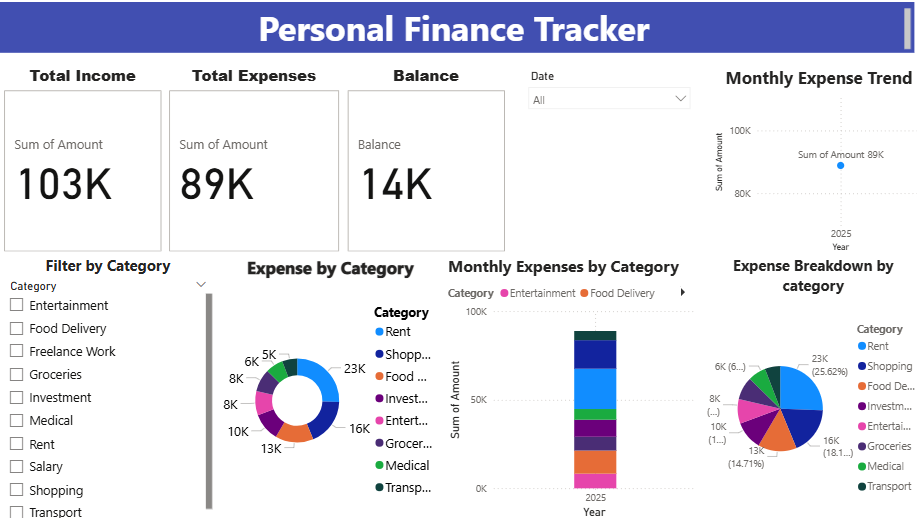

The dashboard page shown, as its layout file describes it:
{"tool":"powerbi","page":{"name":"Page 1","canvas":[1280,720],"ordinal":0},"visuals":[{"type":"cardVisual","title":"Total Income","fields":{"Data":["Sum(Sheet1.Amount)"]},"box":[0,144,208,240],"z":0},{"type":"cardVisual","title":"Total Expenses","fields":{"Data":["Sum(Sheet1.Amount)"]},"box":[208,144,224,240],"z":1000},{"type":"cardVisual","title":"Balance","fields":{"Data":["Sheet1.Balance"]},"box":[432,144,208,240],"z":2000},{"type":"donutChart","title":"Expense by Category","fields":{"Category":["Sheet1.Category"],"Y":["Sheet1.ExpenseOnly"]},"box":[272,384,288,336],"z":3000},{"type":"lineChart","title":"Monthly Expense Trend","fields":{"Category":["Sheet1.Date.Variation.Date Hierarchy.Year","Sheet1.Date.Variation.Date Hierarchy.Quarter","Sheet1.Date.Variation.Date Hierarchy.Month","Sheet1.Date.Variation.Date Hierarchy.Day"],"Y":["Sum(Sheet1.Amount)"]},"box":[896,144,272,240],"z":4000},{"type":"columnChart","title":"Monthly Expenses by Category","fields":{"Category":["Sheet1.Date.Variation.Date Hierarchy.Year","Sheet1.Date.Variation.Date Hierarchy.Quarter","Sheet1.Date.Variation.Date Hierarchy.Month","Sheet1.Date.Variation.Date Hierarchy.Day"],"Y":["Sum(Sheet1.Amount)"],"Series":["Sheet1.Category"]},"box":[560,384,320,336],"z":5000},{"type":"slicer","title":"Filter by Category","fields":{"Values":["Sheet1.Category"]},"box":[0,384,272,336],"z":6000},{"type":"slicer","fields":{"Values":["Sheet1.Date"]},"box":[656,144,224,240],"z":7000},{"type":"pieChart","title":"Expense Breakdown by category","fields":{"Category":["Sheet1.Category"],"Y":["Sum(Sheet1.Amount)"]},"box":[880,384,288,336],"z":8000},{"type":"textbox","box":[0,64,1152,64],"z":8001}]}

Visuals, with their boxes in screenshot pixels (x1, y1, x2, y2), scaled from the page's 1280x720 canvas onto the 919x519 screenshot:
"Total Income" cardVisual: (0,104,149,277)
"Total Expenses" cardVisual: (149,104,310,277)
"Balance" cardVisual: (310,104,460,277)
"Expense by Category" donutChart: (195,277,402,518)
"Monthly Expense Trend" lineChart: (643,104,839,277)
"Monthly Expenses by Category" columnChart: (402,277,632,518)
"Filter by Category" slicer: (0,277,195,518)
slicer - Sheet1.Date: (471,104,632,277)
"Expense Breakdown by category" pieChart: (632,277,839,518)
textbox: (0,46,827,92)
